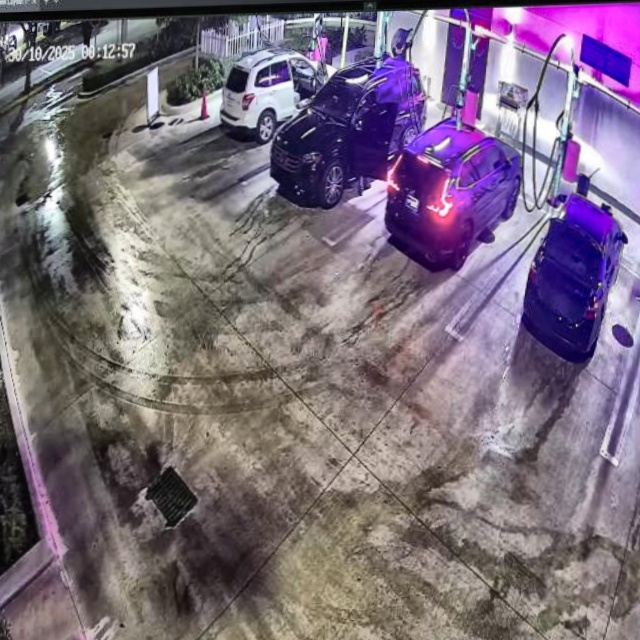Car: (273, 58, 427, 206), (386, 114, 524, 268)
